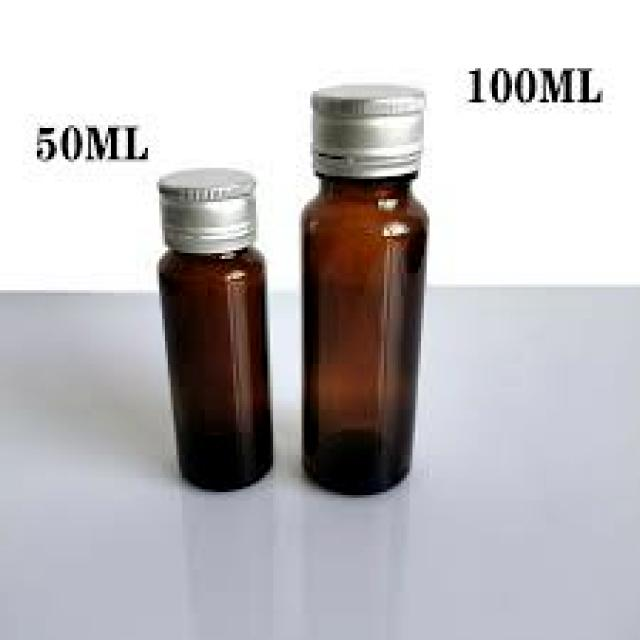Glass: (294, 84, 434, 498), (150, 156, 279, 492)
Metal: (306, 78, 429, 184), (156, 164, 264, 256)
